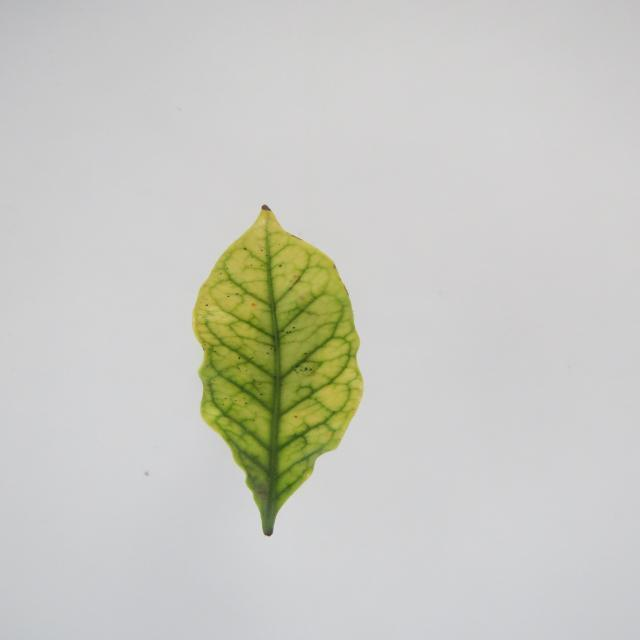DeficienciaNutricional-Hierro: (193, 205, 363, 535)
